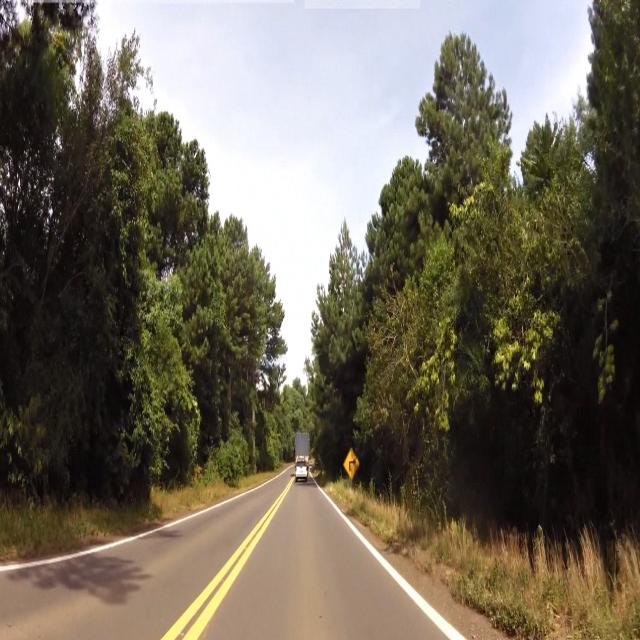A-1b: (339, 446, 363, 481)
